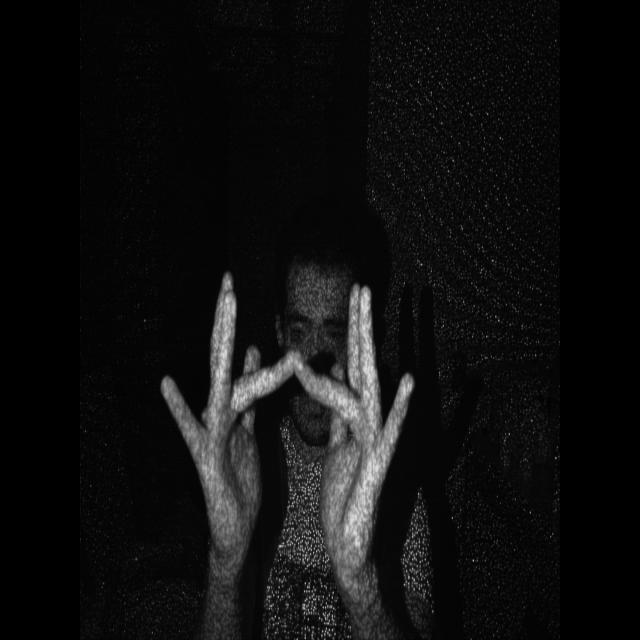REACH: (156, 262, 431, 575)
